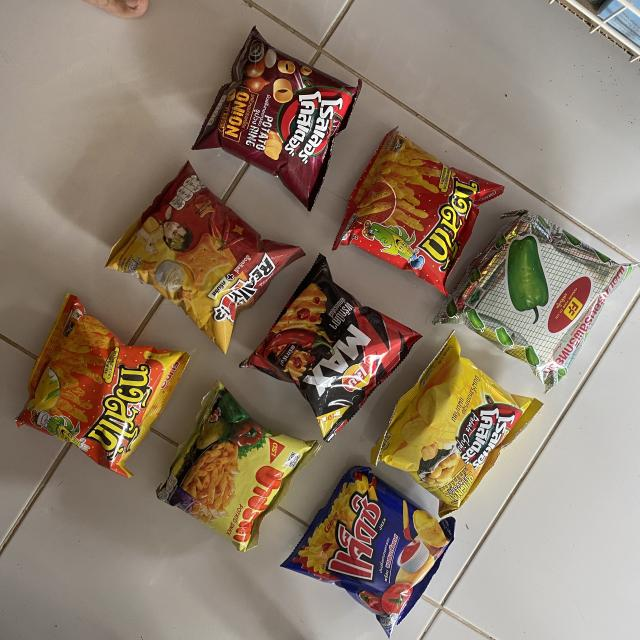plastik: (106, 161, 304, 352), (434, 210, 636, 391), (240, 254, 421, 441), (16, 295, 189, 478), (371, 331, 541, 516), (192, 26, 361, 210), (332, 128, 504, 294), (281, 468, 454, 632), (158, 381, 320, 551)
